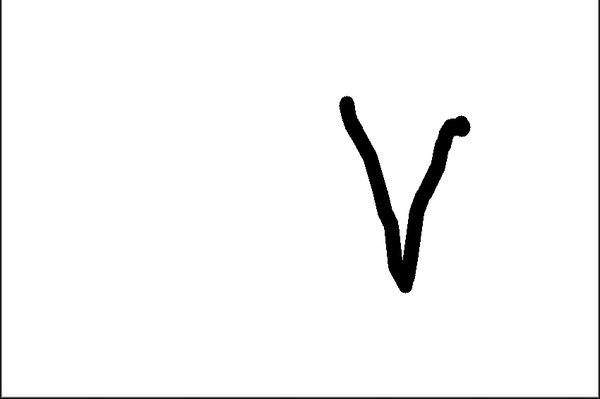V: (332, 95, 476, 292)
